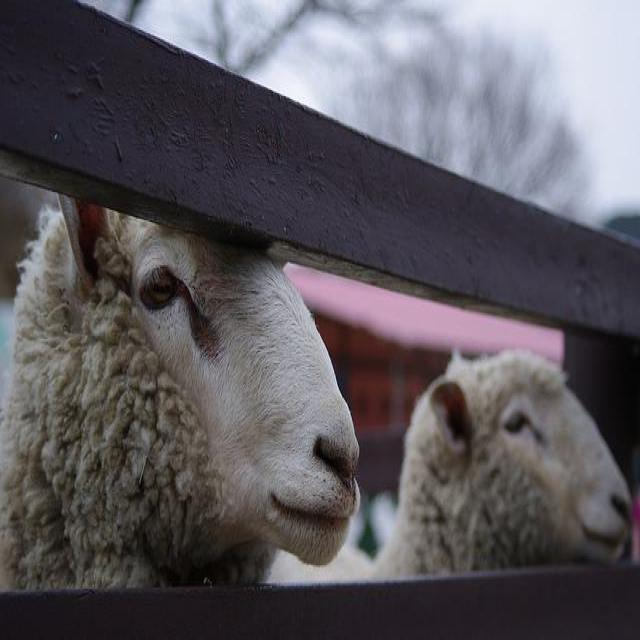Sheep: (1, 202, 354, 588), (368, 349, 637, 579)
